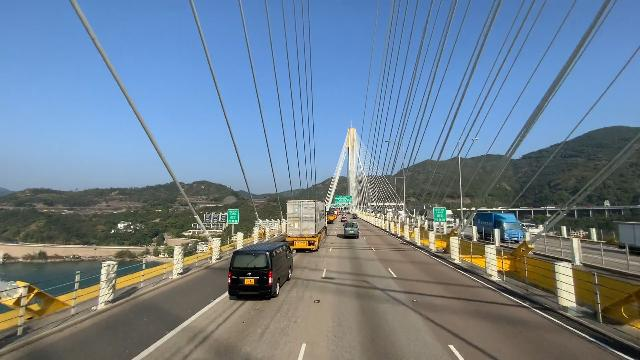car: (341, 215, 348, 222), (352, 213, 357, 219)
truck: (464, 205, 527, 245), (286, 197, 329, 252), (426, 206, 455, 229)
van: (228, 241, 296, 306), (341, 219, 361, 240)
